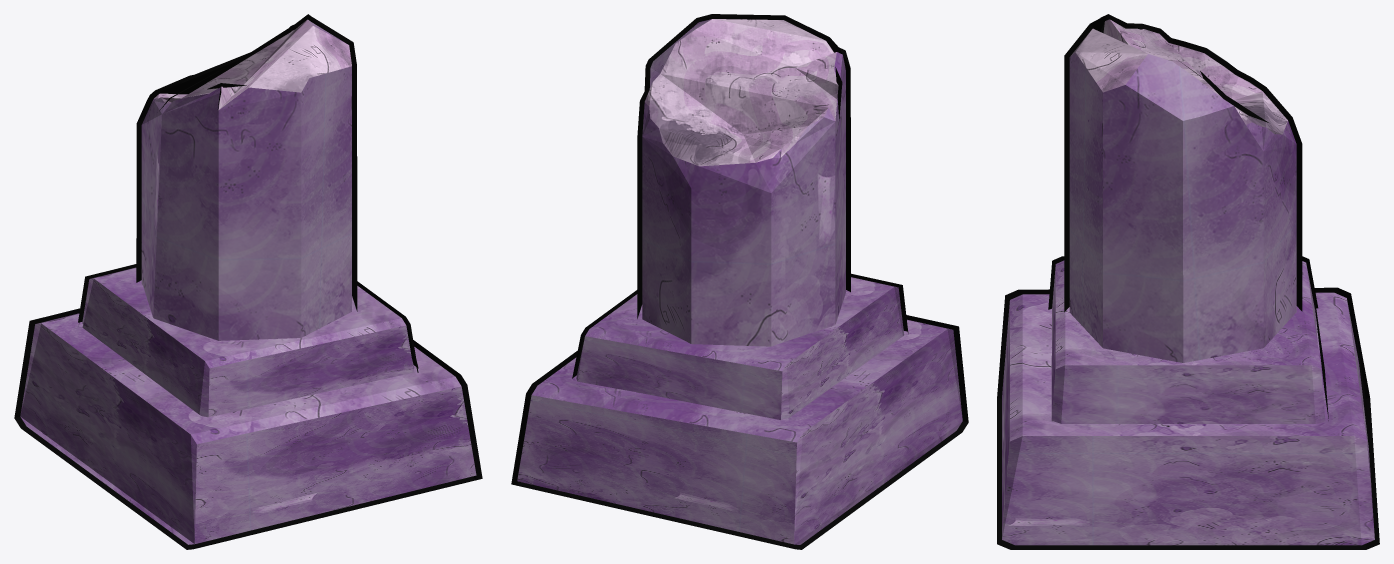
File: s0_Str_Ruins_04_1__1__01.glb
3 views of the same model, side by side, from view 1: azimuth 30°, elevation 25°; view 2: azimuth 150°, elevation 25°; view 3: azimuth 270°, elevation 25° (orthographic). The views are drawn at different scales.
Parts seen in each view (by area): view 1: node_Str_Ruins_04_1 (1); view 2: node_Str_Ruins_04_1 (1); view 3: node_Str_Ruins_04_1 (1).
Part boxes in pixels (bbox=[...]): node_Str_Ruins_04_1 (1): bbox=[14, 14, 482, 549]; node_Str_Ruins_04_1 (1): bbox=[511, 14, 968, 549]; node_Str_Ruins_04_1 (1): bbox=[997, 14, 1379, 549].
Size of what is drawn, in the model's own units: 1.69 by 2.42 by 1.86.
3 materials, 2 textured.
